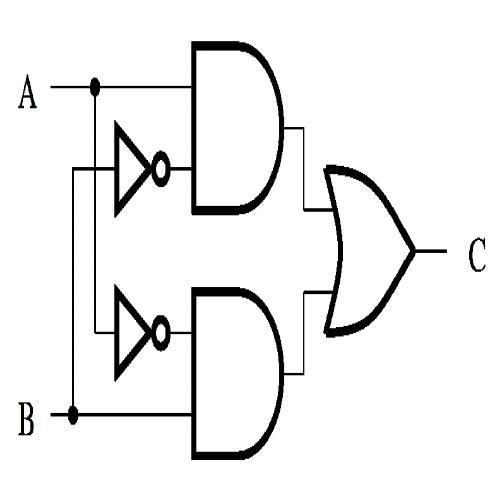and: (186, 32, 288, 224), (187, 278, 288, 466)
not: (108, 112, 175, 225), (110, 276, 174, 391)
or: (318, 158, 420, 344)
